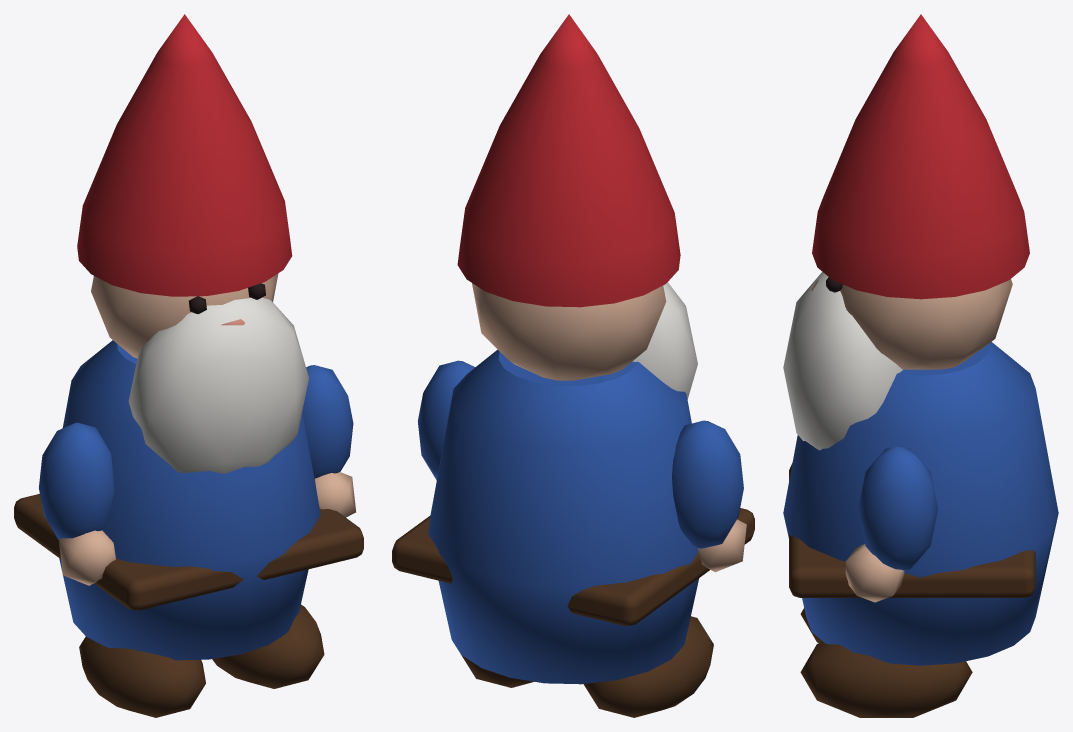
The model's file is furn_disp_gnome.glb.
3 renders of one model, left to right at view 1: azimuth 30°, elevation 25°; view 2: azimuth 150°, elevation 25°; view 3: azimuth 270°, elevation 25°, orthographic. The views are drawn at different scales.
Parts seen in each view (by area): view 1: furn_disp_gnome_main; view 2: furn_disp_gnome_main; view 3: furn_disp_gnome_main.
Part boxes in pixels (box(x1,y1,x2,y2)): furn_disp_gnome_main: box(14, 14, 363, 717); furn_disp_gnome_main: box(392, 14, 754, 717); furn_disp_gnome_main: box(783, 14, 1058, 717).
Bounding box in the file's own units: 0.4139 × 0.8708 × 0.324.
